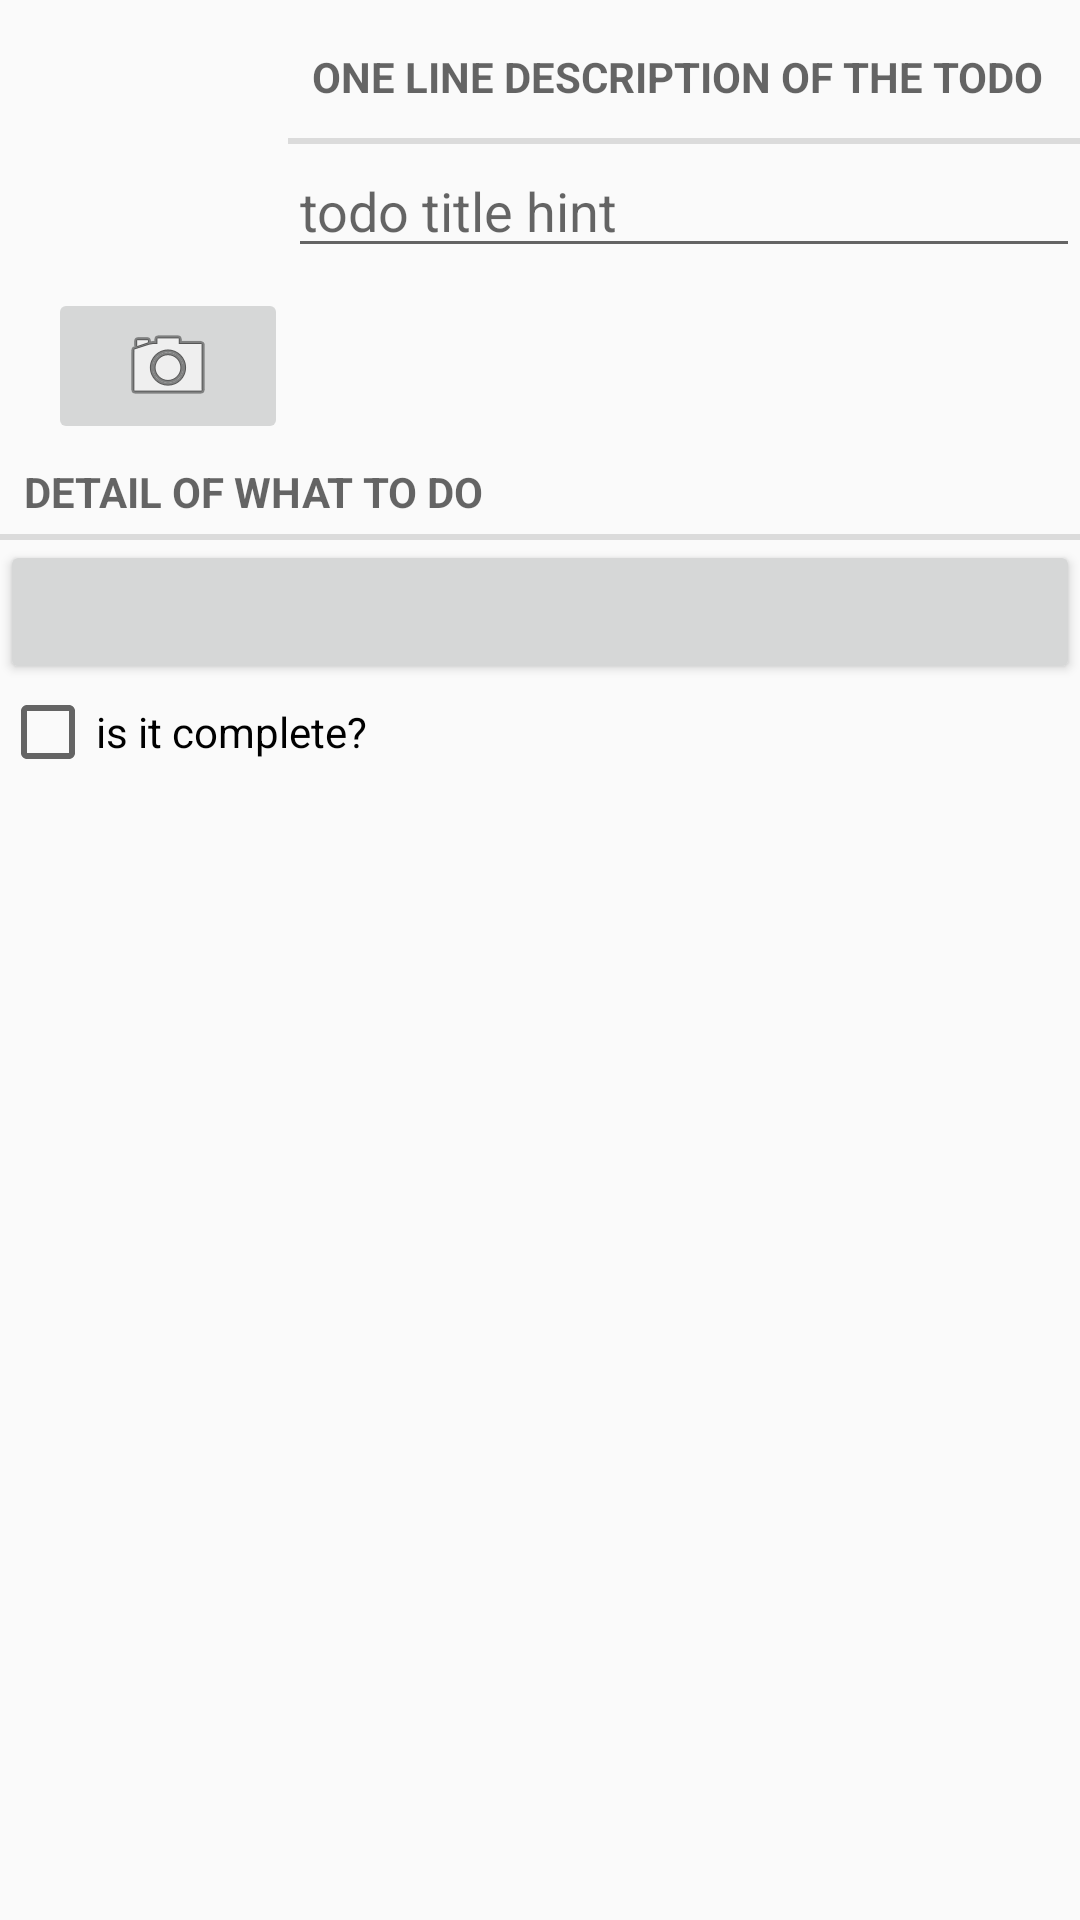

Screen size 1080w x 1920h. Icon name, then its box in pixels as (x1, y1, x2, y2):
Take Photo: (60, 306, 276, 426)
